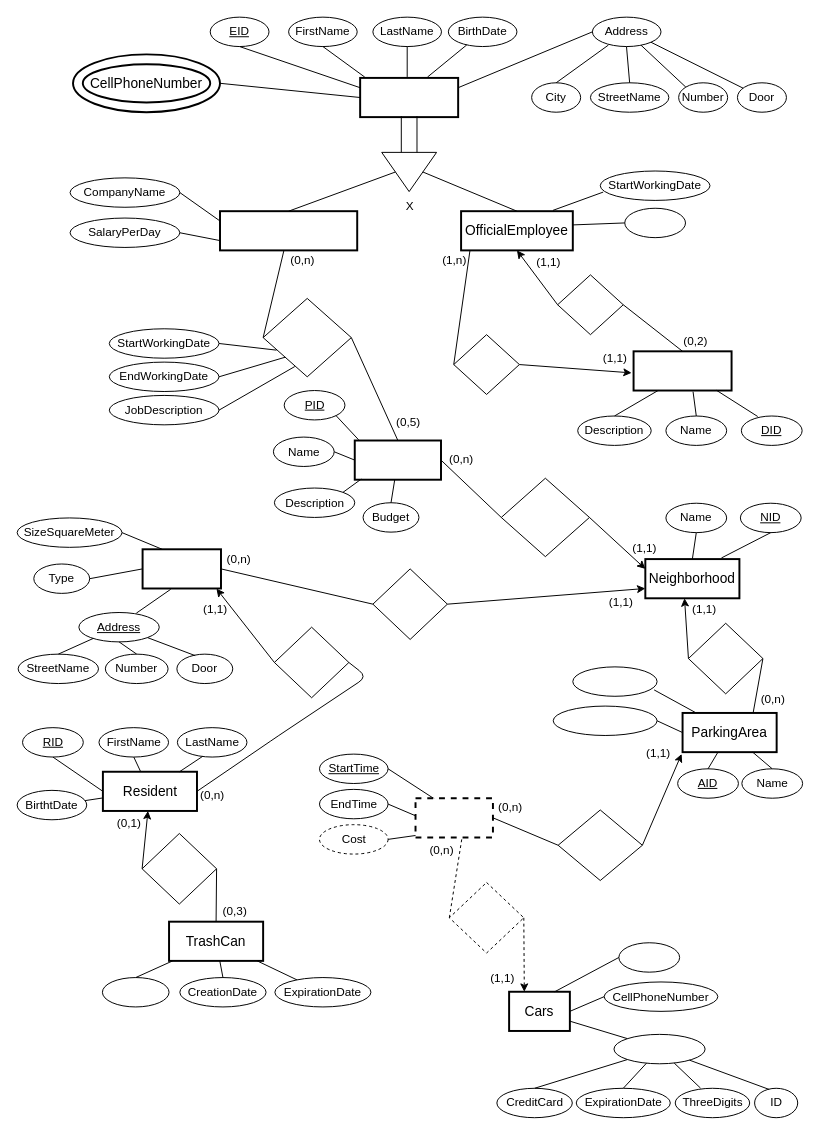
The diagram is 820 pixels wide and 1135 high, and some of its shapes have lost their labels. The centre of each missing label's shape, as x and y in pixels:
"Allocated For" goes at pixel 306 337.
"Apartment" goes at pixel 181 568.
"Belongs To" goes at pixel 725 658.
"CarParking" goes at pixel 453 817.
"CatalogID" goes at pixel 135 992.
"CID" goes at pixel 649 957.
"ConstructorEmployee" goes at pixel 288 230.
"CreditDetails" goes at pixel 659 1048.
"Degree" goes at pixel 655 222.
"Department" goes at pixel 682 370.
"Employee" goes at pixel 409 97.
"Executed At" goes at pixel 544 517.
"Head Of" goes at pixel 590 304.
"ISA" goes at pixel 409 171.
"Lives In" goes at pixel 311 662.
"Located At" goes at pixel 409 603.
"MaxPricePerDay" goes at pixel 604 720.
"Park In Area" goes at pixel 599 845.
"Parking" goes at pixel 486 917.
"Possesses" goes at pixel 179 868.
"PricePerHour" goes at pixel 614 681.
"Project" goes at pixel 397 459.
"Works At" goes at pixel 486 364.
